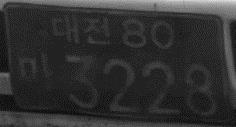0: (151, 19, 174, 50)
2: (140, 58, 181, 116), (103, 56, 140, 114)
3: (64, 53, 99, 110)
8: (183, 61, 218, 117), (119, 16, 147, 49)
대전_O: (49, 12, 112, 47)
마: (18, 48, 56, 97)
